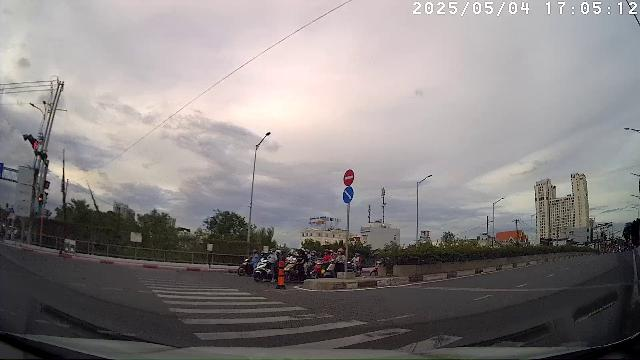102-cam-di-nguoc-chieu: (343, 169, 355, 186)
302a-huong-phai-di-vong-chuong-ngai-vat-1: (343, 187, 354, 204)
